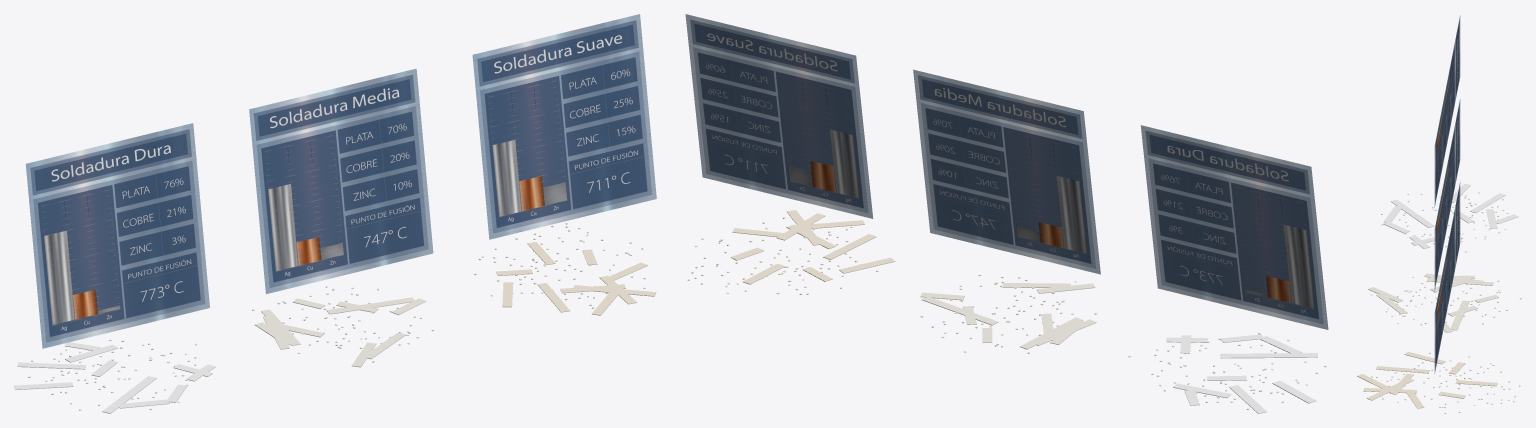
The model's file is soldadura.glb.
3 renders of one model, left to right at view 1: azimuth 30°, elevation 25°; view 2: azimuth 150°, elevation 25°; view 3: azimuth 270°, elevation 25°, orthographic. The views are drawn at different scales.
Visible parts, largest first — view 1: Plane, Plane.001, Plane.002; view 2: Plane, Plane.001, Plane.002; view 3: Plane, Plane.001, Plane.002, dura_Placa_8, media_Placa_6, media_Placa_4, suave_Placa_6, suave_Placa_5, dura_Placa_7, media_Placa_0, suave_Placa_3, suave_Placa_4 (+1 smaller).
Part boxes in pixels (x1,y1,x2,y2): Plane: (25,123,209,348); Plane.001: (249,69,433,293); Plane.002: (472,14,656,239); Plane: (1140,125,1328,329); Plane.001: (913,69,1100,274); Plane.002: (685,14,873,218); Plane: (1434,15,1460,206); Plane.001: (1434,99,1460,290); Plane.002: (1434,182,1460,373); dura_Placa_8: (1391,199,1434,227); media_Placa_6: (1450,300,1469,330); media_Placa_4: (1426,278,1493,285); suave_Placa_6: (1376,366,1429,373); suave_Placa_5: (1357,374,1398,393); dura_Placa_7: (1470,193,1505,213); media_Placa_0: (1376,293,1407,314); suave_Placa_3: (1404,351,1445,364); suave_Placa_4: (1455,380,1497,386).
Size of the model in its own units: 0.5569 by 0.1936 by 0.1671.
6 materials, 3 textured.
